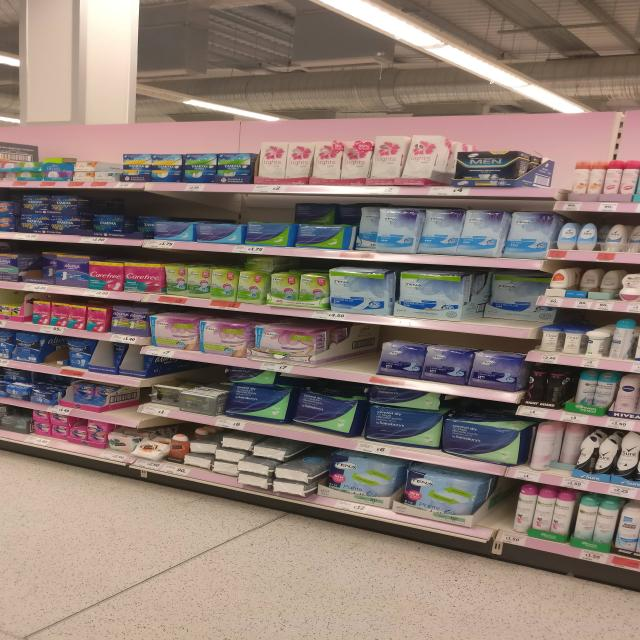void: (323, 331, 376, 373)
